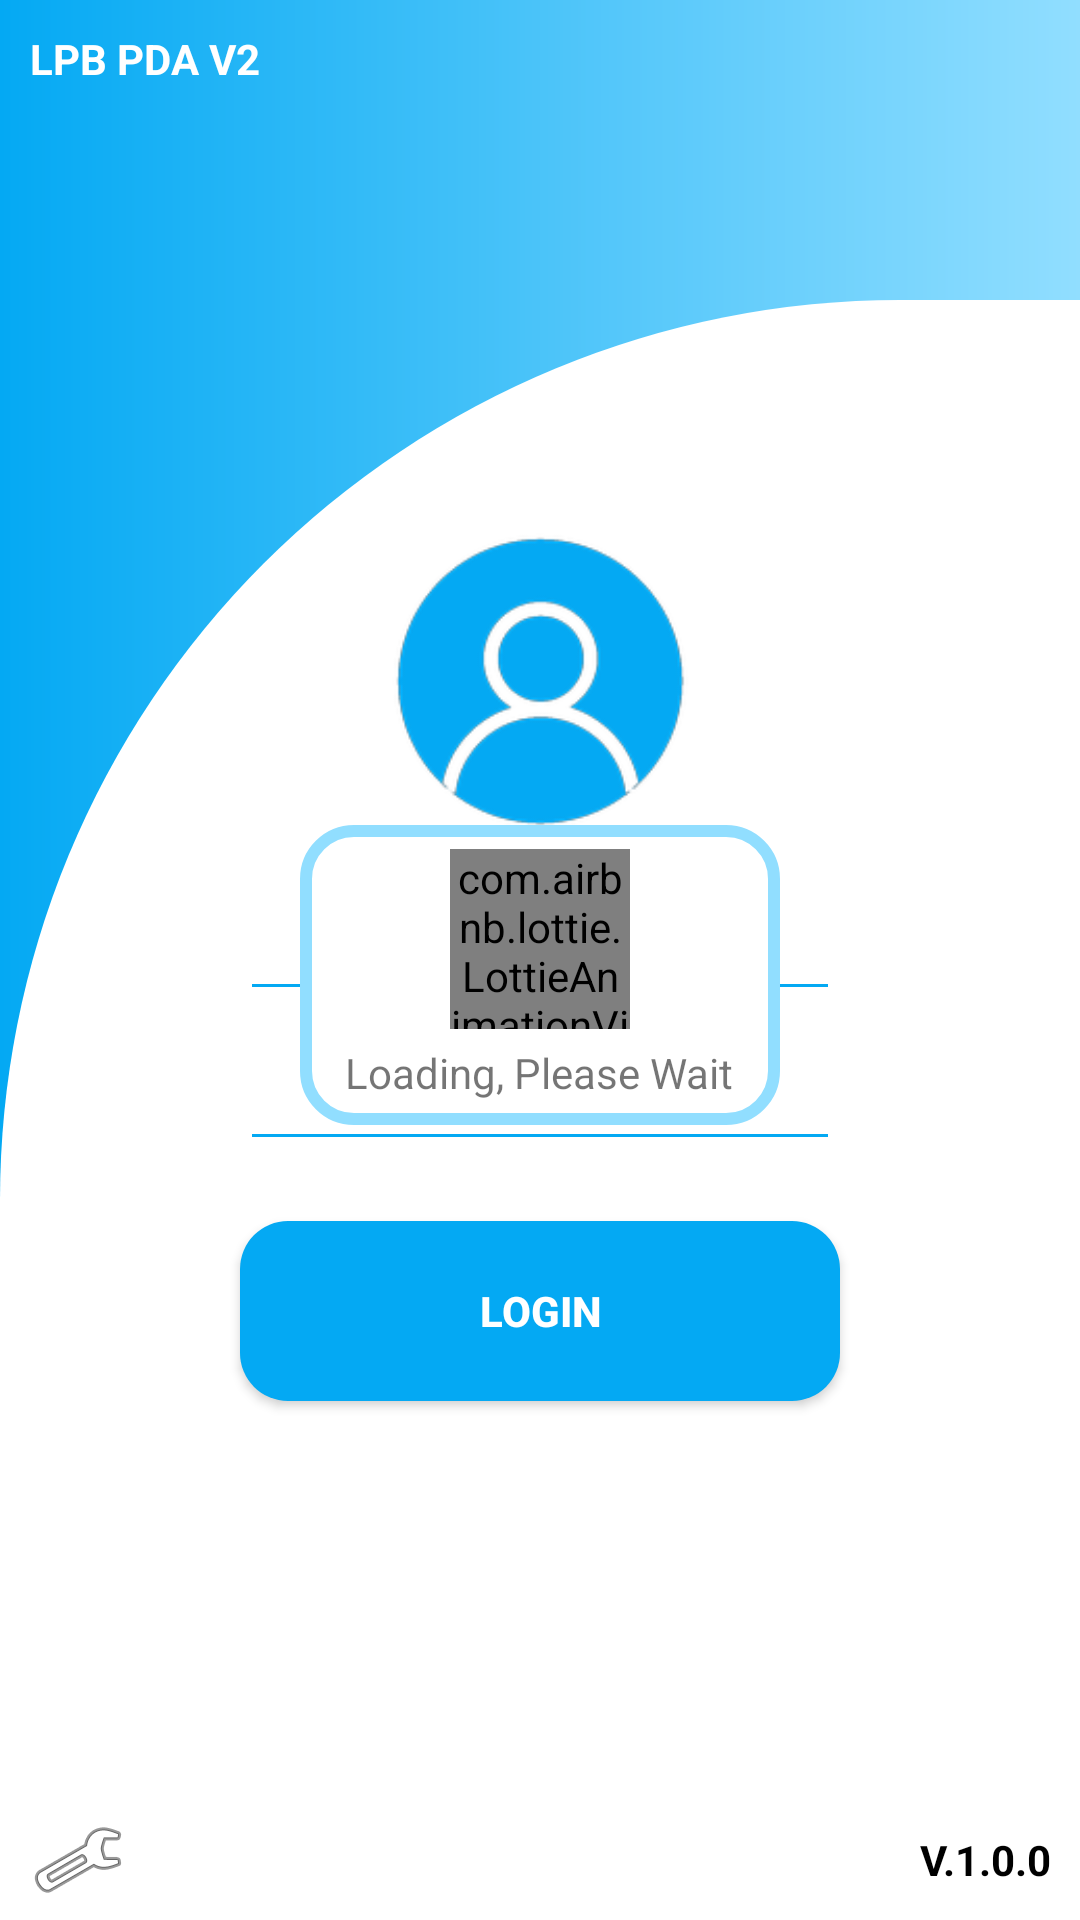

Icon click points for this 1080px×1920px phone screenshot, format [x,y]:
preferences: [78,1860]
